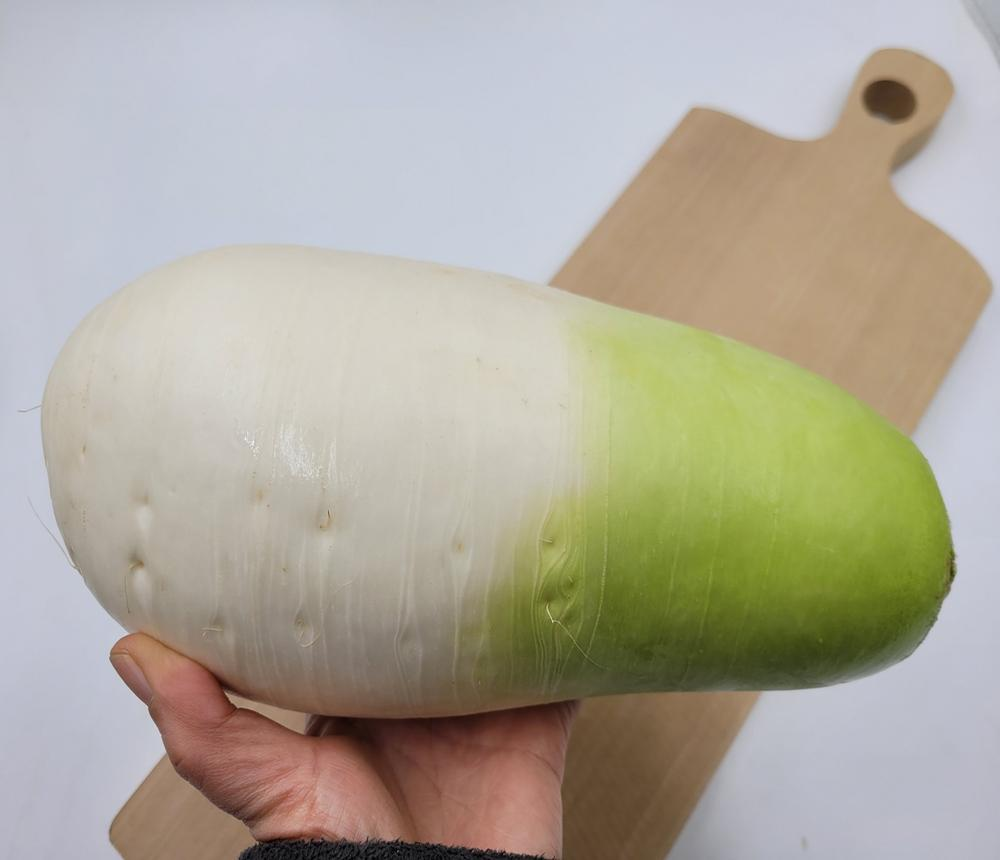radish: (288, 367, 1000, 860)
